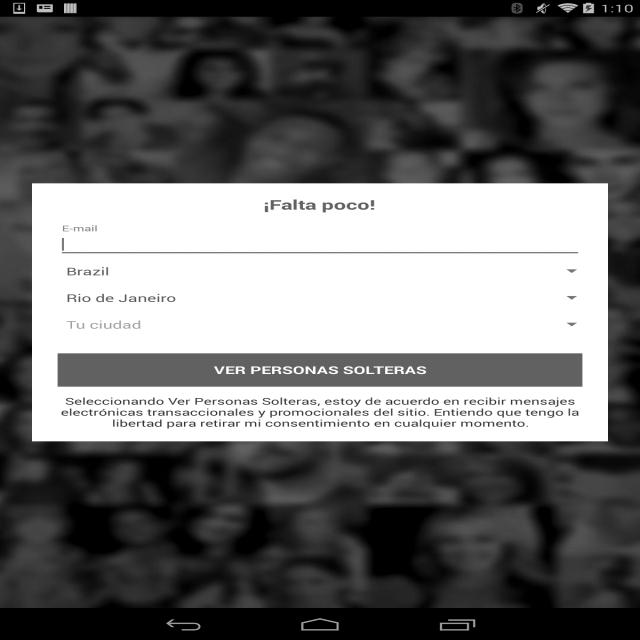Button: (58, 353, 582, 387)
CheckedTextView: (58, 255, 565, 288), (58, 308, 565, 341), (58, 282, 565, 314)
EditText: (58, 231, 582, 258)
Spinner: (58, 258, 582, 285), (58, 311, 582, 338), (58, 285, 582, 311)
TextView: (45, 395, 595, 429), (263, 191, 376, 224)
